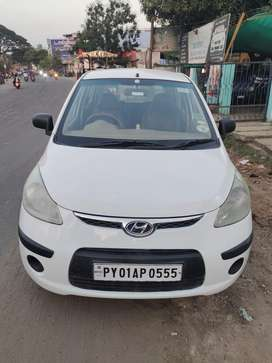PY01AP0555: (93, 262, 182, 281)
